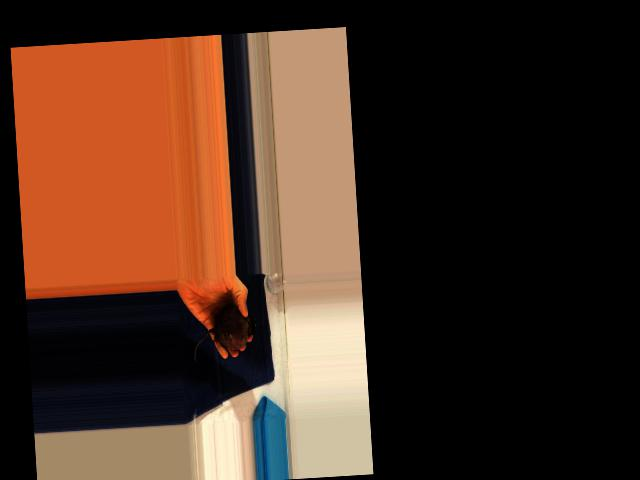beet: (191, 303, 257, 362)
